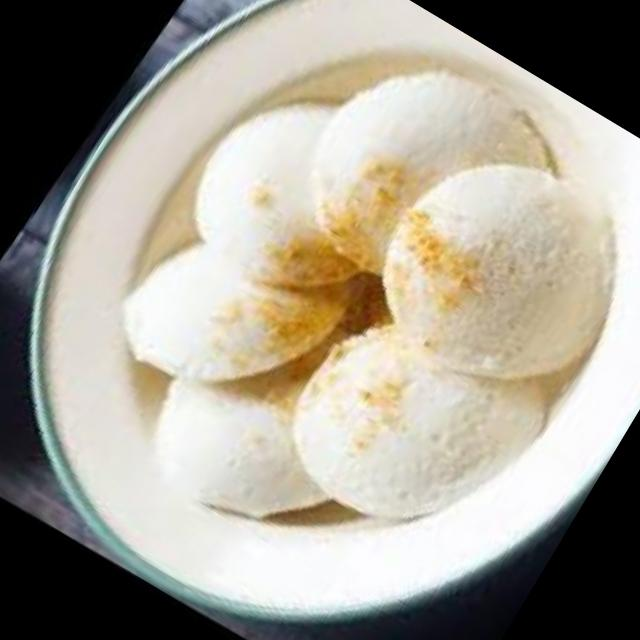idli: (328, 109, 640, 436), (115, 260, 418, 570), (252, 274, 560, 574), (262, 22, 564, 326), (156, 51, 432, 328), (98, 179, 360, 438)
